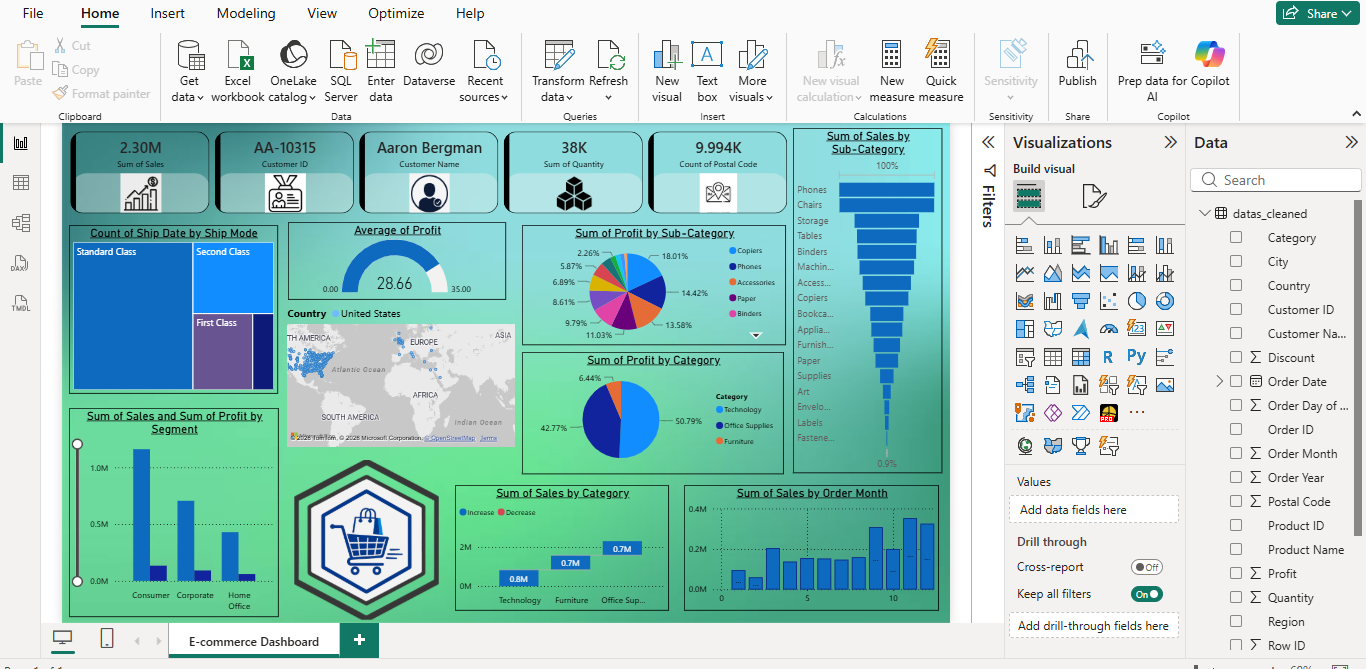

This screenshot's page, from the dashboard's own definition file:
{"tool":"powerbi","page":{"name":"E-commerce Dashboard","canvas":[1280,720],"ordinal":0},"visuals":[{"type":"image","box":[263.5,485.3,349.9,230.4],"z":0},{"type":"image","box":[302.4,501.1,272.2,210.2],"z":1000},{"type":"cardVisual","fields":{"Data":["Sum(datas_cleaned.Sales)","Min(datas_cleaned.Customer ID)","Min(datas_cleaned.Customer Name)","Sum(datas_cleaned.Quantity)","CountNonNull(datas_cleaned.Postal Code)"]},"box":[7.2,7.2,1045.4,128.2],"z":2000},{"type":"columnChart","fields":{"Category":["datas_cleaned.Order Month"],"Y":["Sum(datas_cleaned.Sales)"]},"box":[895.7,521.3,367.2,181.4],"z":3000},{"type":"waterfallChart","fields":{"Category":["datas_cleaned.Category"],"Y":["Sum(datas_cleaned.Sales)"]},"box":[565.9,521.3,308.2,181.4],"z":4000},{"type":"funnel","fields":{"Category":["datas_cleaned.Sub-Category"],"Y":["Sum(datas_cleaned.Sales)"]},"box":[1053,7,214.6,496.8],"z":5000},{"type":"gauge","fields":{"Y":["Avg(datas_cleaned.Profit)"]},"box":[325.4,142.6,313.9,112.3],"z":6000},{"type":"pieChart","fields":{"Category":["datas_cleaned.Category"],"Y":["Sum(datas_cleaned.Profit)"]},"box":[662.4,329.8,377.3,175.7],"z":7000},{"type":"pieChart","fields":{"Y":["Sum(datas_cleaned.Profit)"],"Category":["datas_cleaned.Sub-Category"]},"box":[662.4,146.9,380.2,172.8],"z":8000},{"type":"clusteredColumnChart","fields":{"Category":["datas_cleaned.Segment"],"Y":["Sum(datas_cleaned.Sales)","Sum(datas_cleaned.Profit)"]},"box":[10,411,302.4,301],"z":9000},{"type":"map","fields":{"Category":["datas_cleaned.City"],"Series":["datas_cleaned.Country"]},"box":[319.7,253.4,337,267.8],"z":10000},{"type":"treemap","fields":{"Values":["CountNonNull(datas_cleaned.Ship Date)"],"Group":["datas_cleaned.Ship Mode"]},"box":[10.1,146.9,301,243.4],"z":11000}]}

Visuals, with their boxes on the page's 1280x720 design canvas (x1, y1, x2, y2). These are canvas units, not pixel positions in the 1366x669 screenshot, which may show the page scaled, cropped or inside an application window:
image: [x1=264, y1=485, x2=613, y2=716]
image: [x1=302, y1=501, x2=575, y2=711]
cardVisual - Sum(datas_cleaned.Sales) x Min(datas_cleaned.Customer ID): [x1=7, y1=7, x2=1053, y2=135]
columnChart - datas_cleaned.Order Month x Sum(datas_cleaned.Sales): [x1=896, y1=521, x2=1263, y2=703]
waterfallChart - datas_cleaned.Category x Sum(datas_cleaned.Sales): [x1=566, y1=521, x2=874, y2=703]
funnel - datas_cleaned.Sub-Category x Sum(datas_cleaned.Sales): [x1=1053, y1=7, x2=1268, y2=504]
gauge - Avg(datas_cleaned.Profit): [x1=325, y1=143, x2=639, y2=255]
pieChart - datas_cleaned.Category x Sum(datas_cleaned.Profit): [x1=662, y1=330, x2=1040, y2=506]
pieChart - Sum(datas_cleaned.Profit) x datas_cleaned.Sub-Category: [x1=662, y1=147, x2=1043, y2=320]
clusteredColumnChart - datas_cleaned.Segment x Sum(datas_cleaned.Sales): [x1=10, y1=411, x2=312, y2=712]
map - datas_cleaned.City x datas_cleaned.Country: [x1=320, y1=253, x2=657, y2=521]
treemap - CountNonNull(datas_cleaned.Ship Date) x datas_cleaned.Ship Mode: [x1=10, y1=147, x2=311, y2=390]
